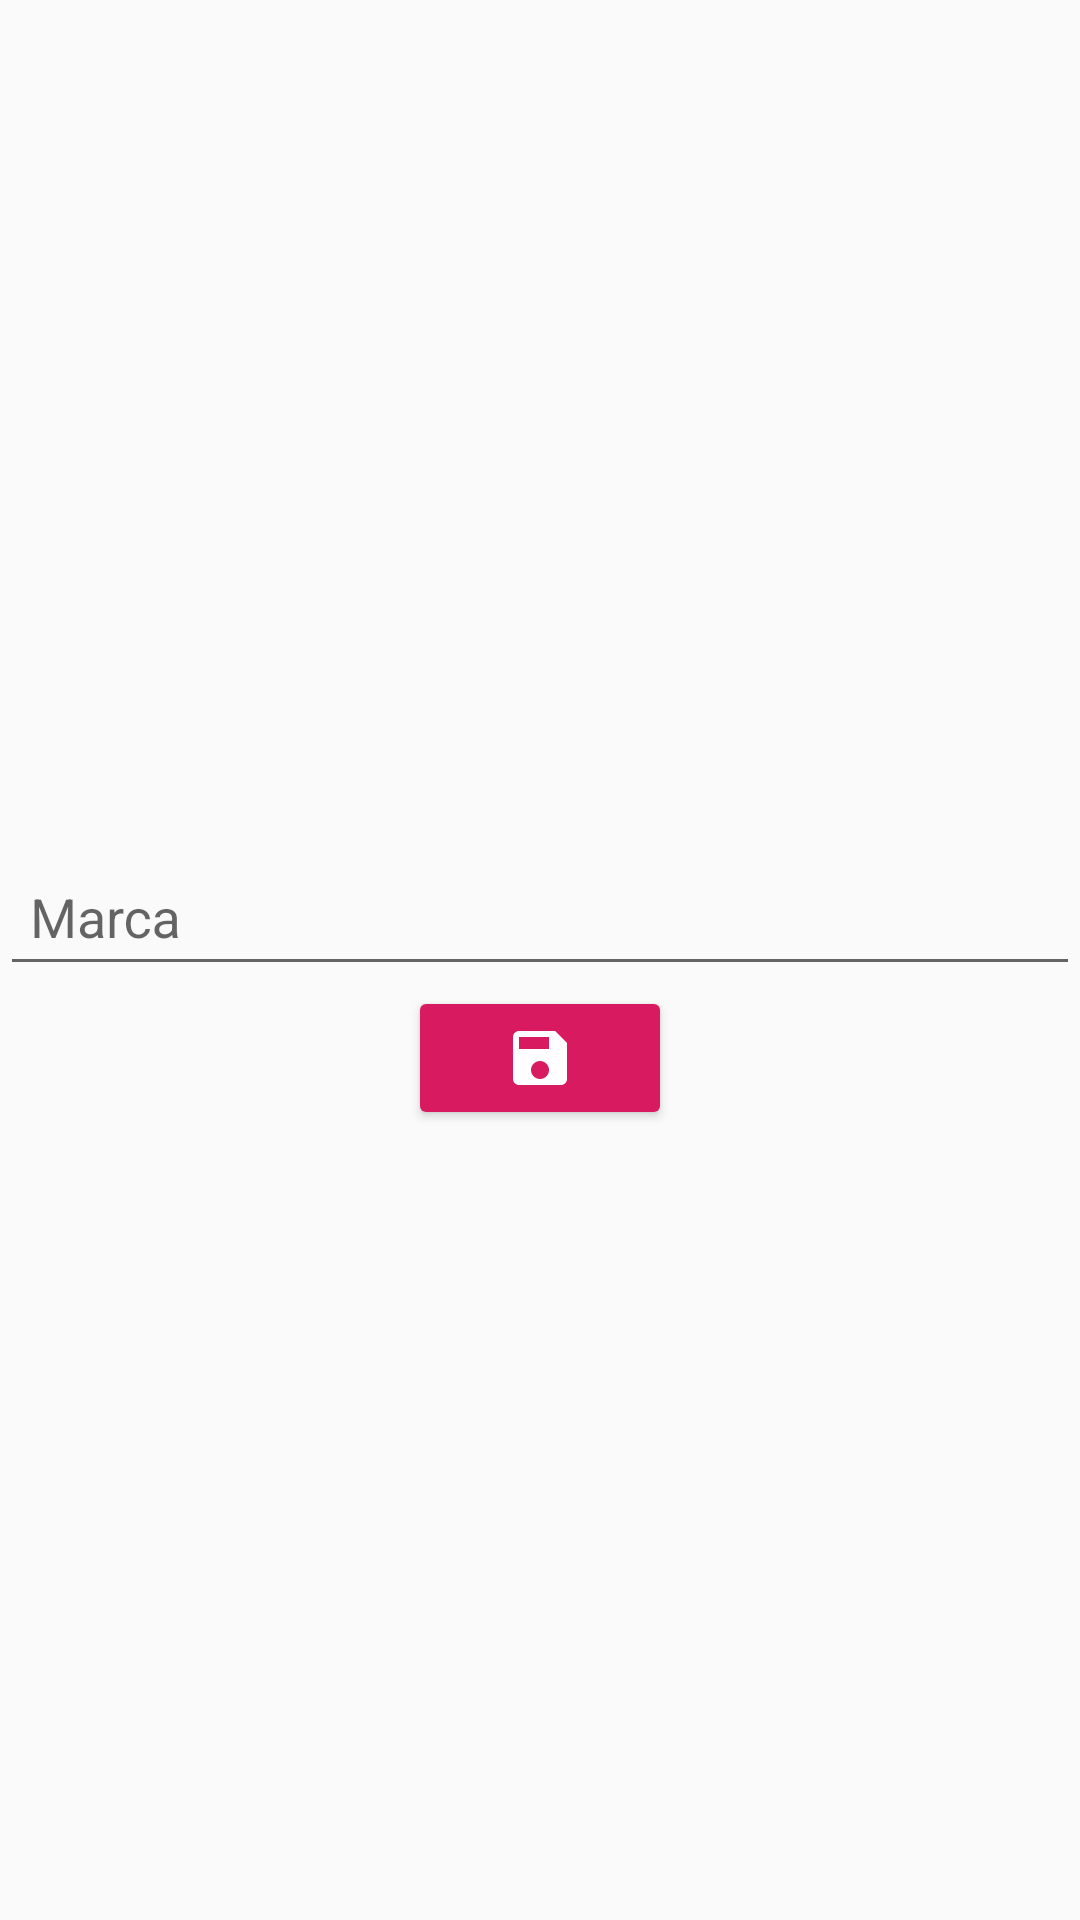

Named icons in this screenshot (1080 × 1920) and their centers, point (x, y):
save: point (540, 1059)
